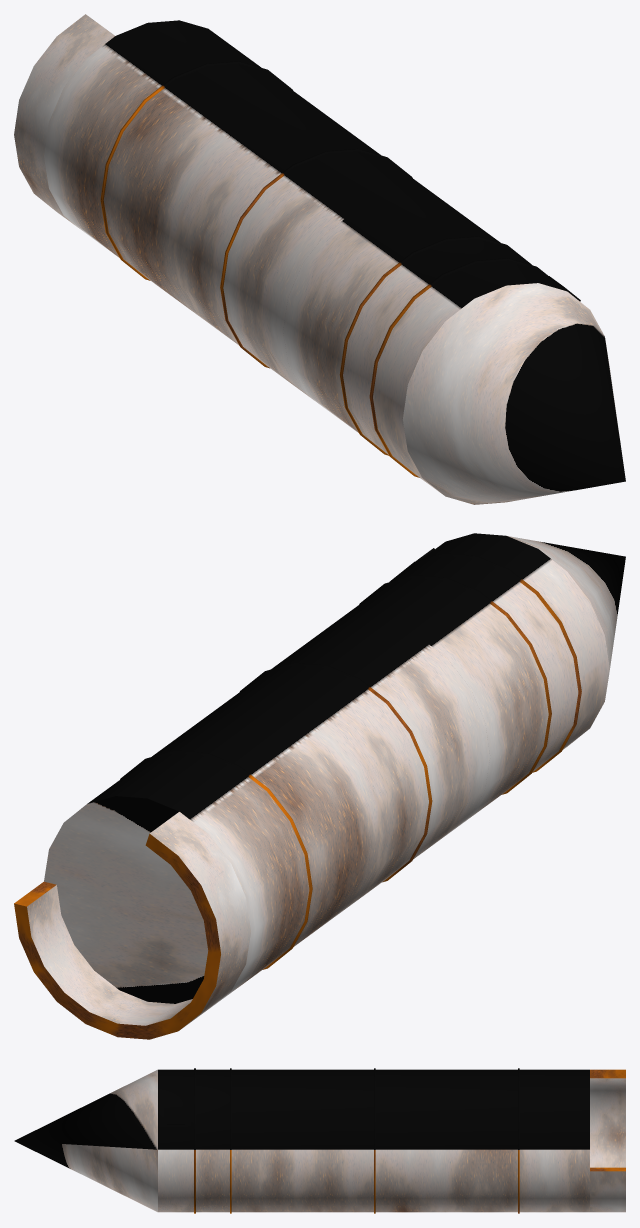
The picture shows the model from 3 angles, top to bottom: view 1: azimuth 30°, elevation 25°; view 2: azimuth 150°, elevation 25°; view 3: azimuth 270°, elevation 25°; orthographic projection. The views are drawn at different scales.
Visible parts, largest first — view 1: cone, front1, middle, back, brokenEnd; view 2: back, front1, middle, brokenEnd, cone; view 3: front1, middle, back, cone, brokenEnd, brokenEndCap1.
Part boxes in pixels (<box>): cone: <box>402,283,625,504</box>; front1: <box>283,195,580,494</box>; middle: <box>163,108,446,407</box>; back: <box>44,20,326,319</box>; brokenEnd: <box>14,14,114,232</box>; back: <box>44,708,370,1006</box>; front1: <box>326,533,609,831</box>; middle: <box>207,621,490,919</box>; brokenEnd: <box>14,812,250,1039</box>; cone: <box>507,536,625,668</box>; front1: <box>158,1068,301,1213</box>; middle: <box>302,1068,445,1213</box>; back: <box>446,1068,589,1213</box>; cone: <box>14,1069,157,1212</box>; brokenEnd: <box>590,1078,625,1212</box>; brokenEndCap1: <box>590,1069,625,1078</box>.
Bounding box in the file's own units: 4.07 × 4.07 × 17.
